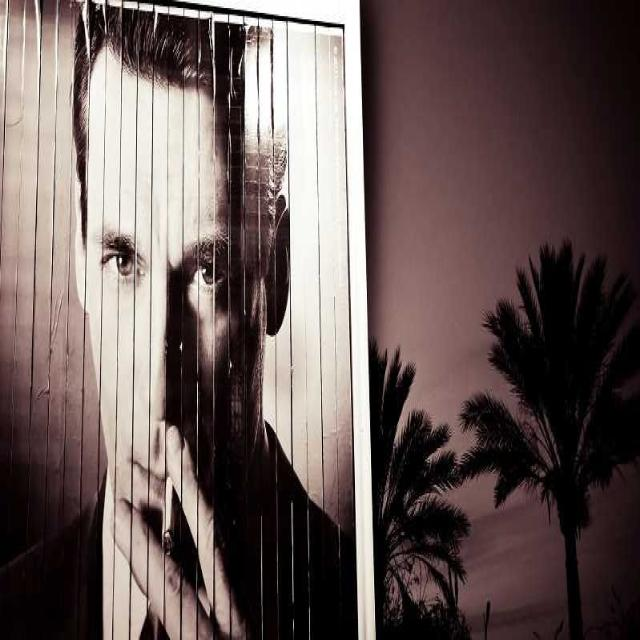Smooking: (157, 456, 183, 548)
